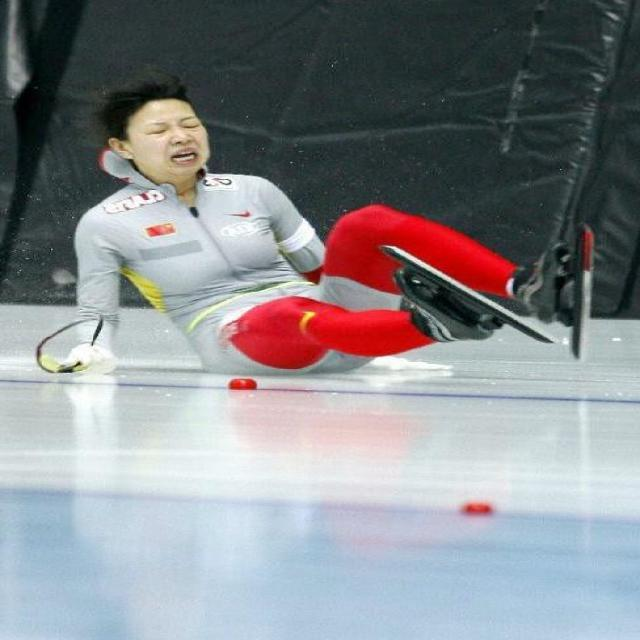fall: (39, 88, 580, 380)
